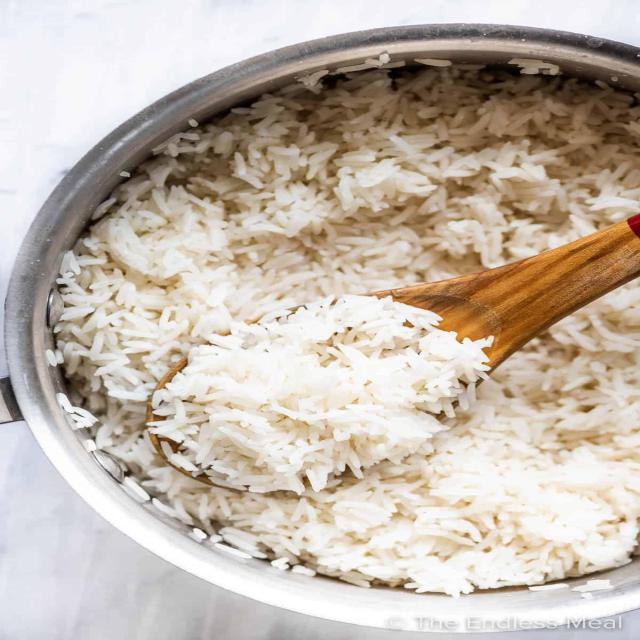rice: (61, 67, 640, 590)
